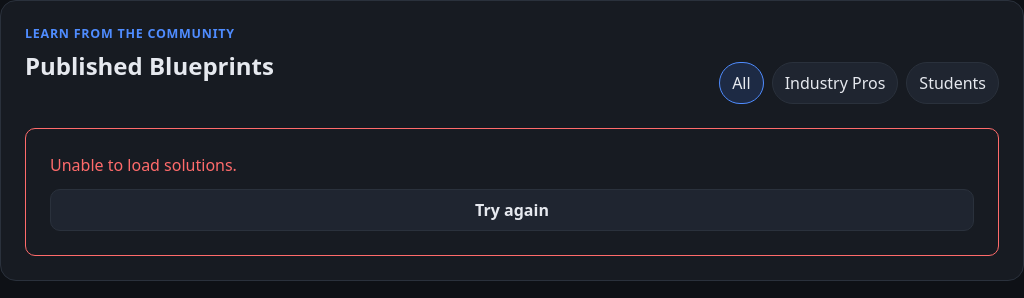
renders useful empty and retryable error states
Expected: the message shows "Unable to load solutions.", x1=50 y1=154 x2=237 y2=176
Click the button "Try again": (512, 210) x1=50 y1=189 x2=974 y2=231
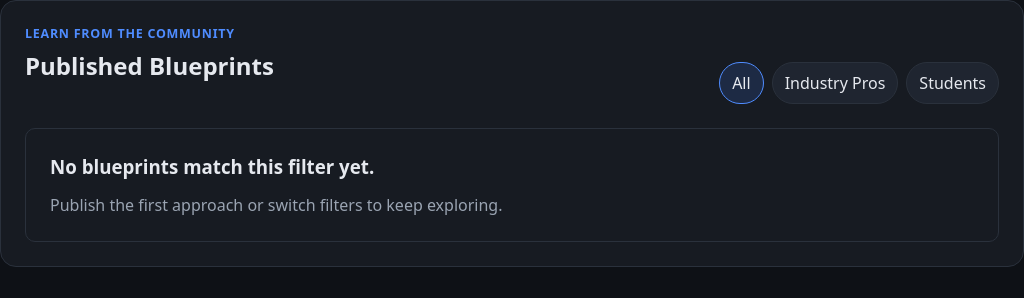
Result: the heading "No blueprints match this filter yet." is shown at x1=50 y1=154 x2=374 y2=179
